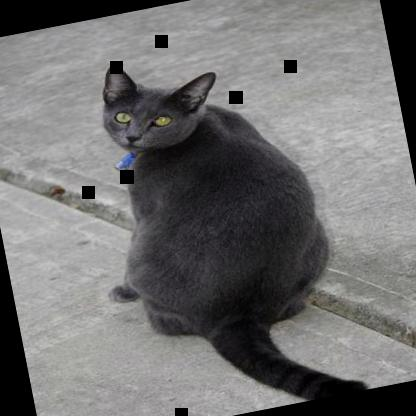cat: (65, 28, 368, 415)
